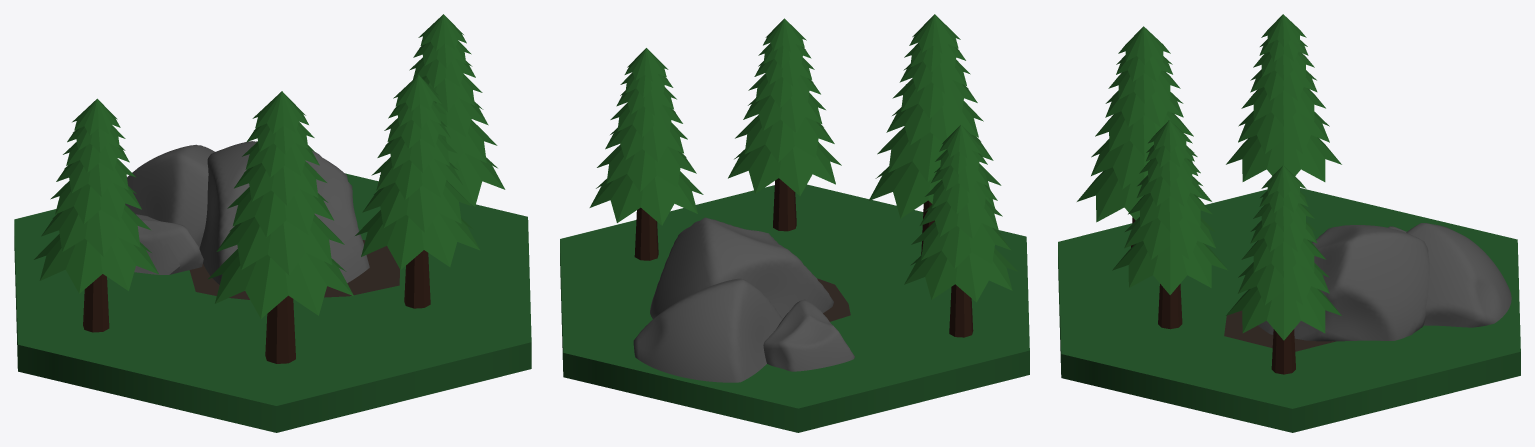
File: Tile_4.FBX
3 views of the same model, side by side, from view 1: azimuth 30°, elevation 25°; view 2: azimuth 150°, elevation 25°; view 3: azimuth 270°, elevation 25° (orthographic). The views are drawn at different scales.
Parts seen in each view (by area): view 1: Ground; view 2: Ground; view 3: Ground.
Boxes of the visible parts, <box> form: Ground: <box>14,14,531,432</box>; Ground: <box>560,14,1029,432</box>; Ground: <box>1058,14,1520,432</box>.
Bounding box in the file's own units: 39.37 × 24.17 × 34.33.
